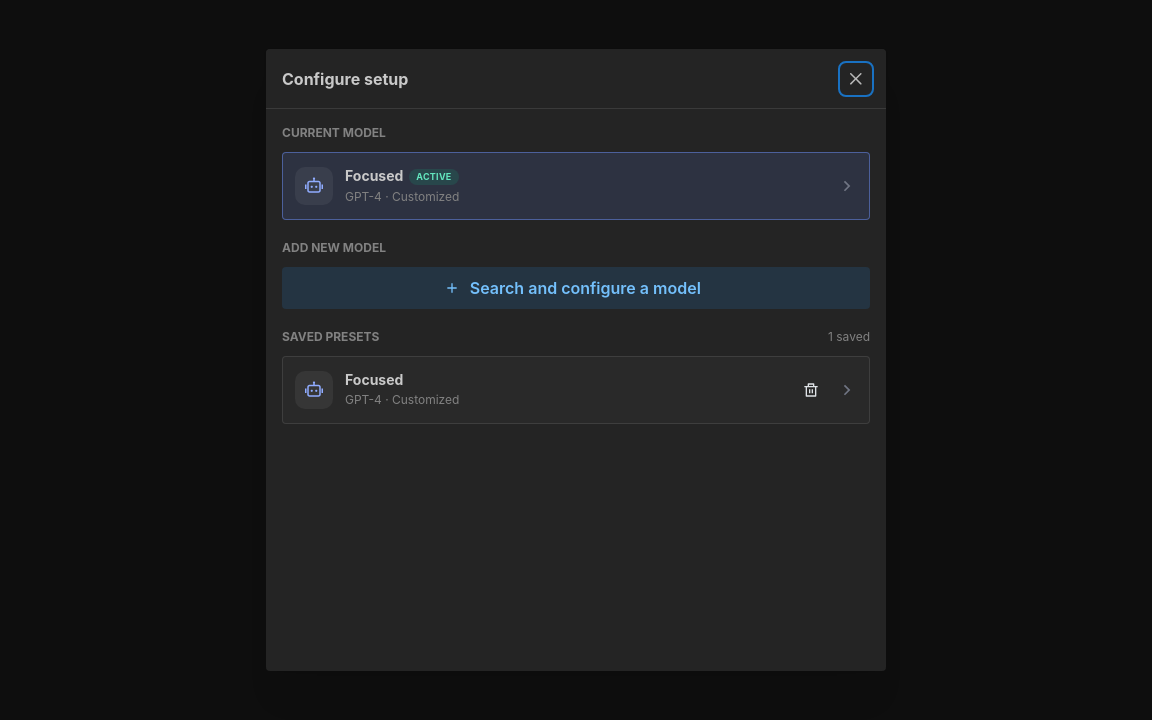
Test: ModelSelectorModal › reopens an active preset as the saved preset
Click the button "Focused Active GPT-4 · Customized" at (314,186), box [282,152,870,220]
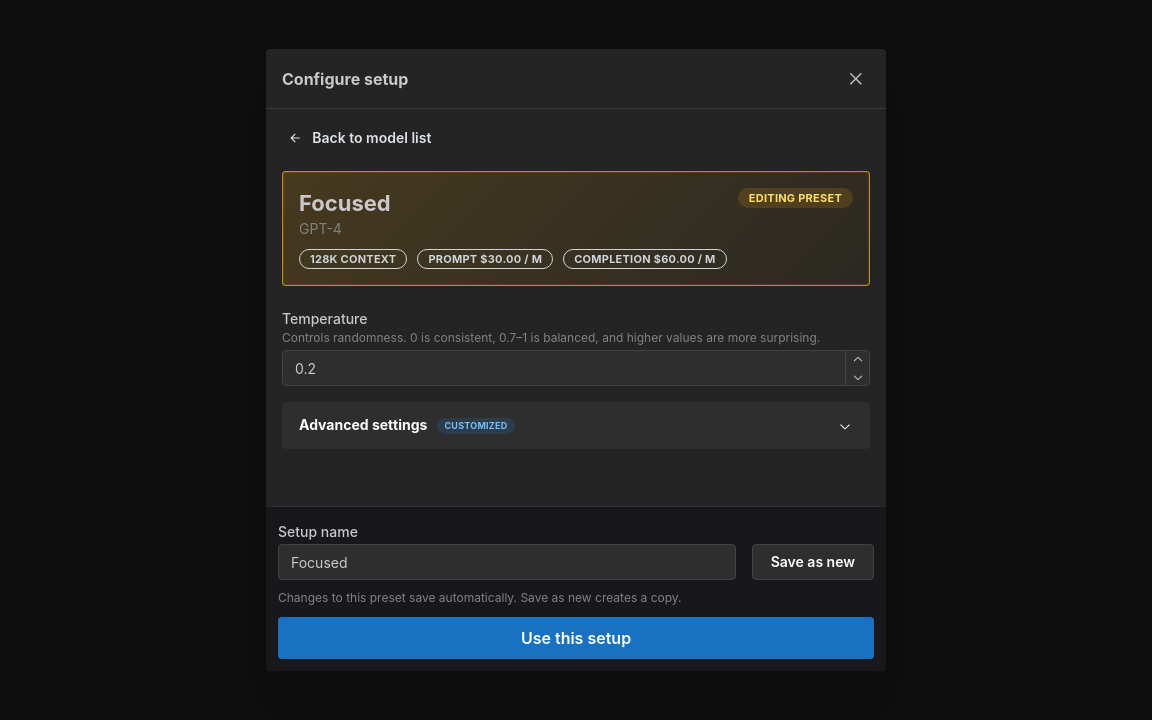
Expected: the element named "Editing saved preset" is shown, [282,171,870,286]
Expected: the field named "Preset name for GPT-4" holds "Focused", [278,544,736,580]
Expected: the field labelled "Temperature" holds "0.2", [282,350,870,386]
